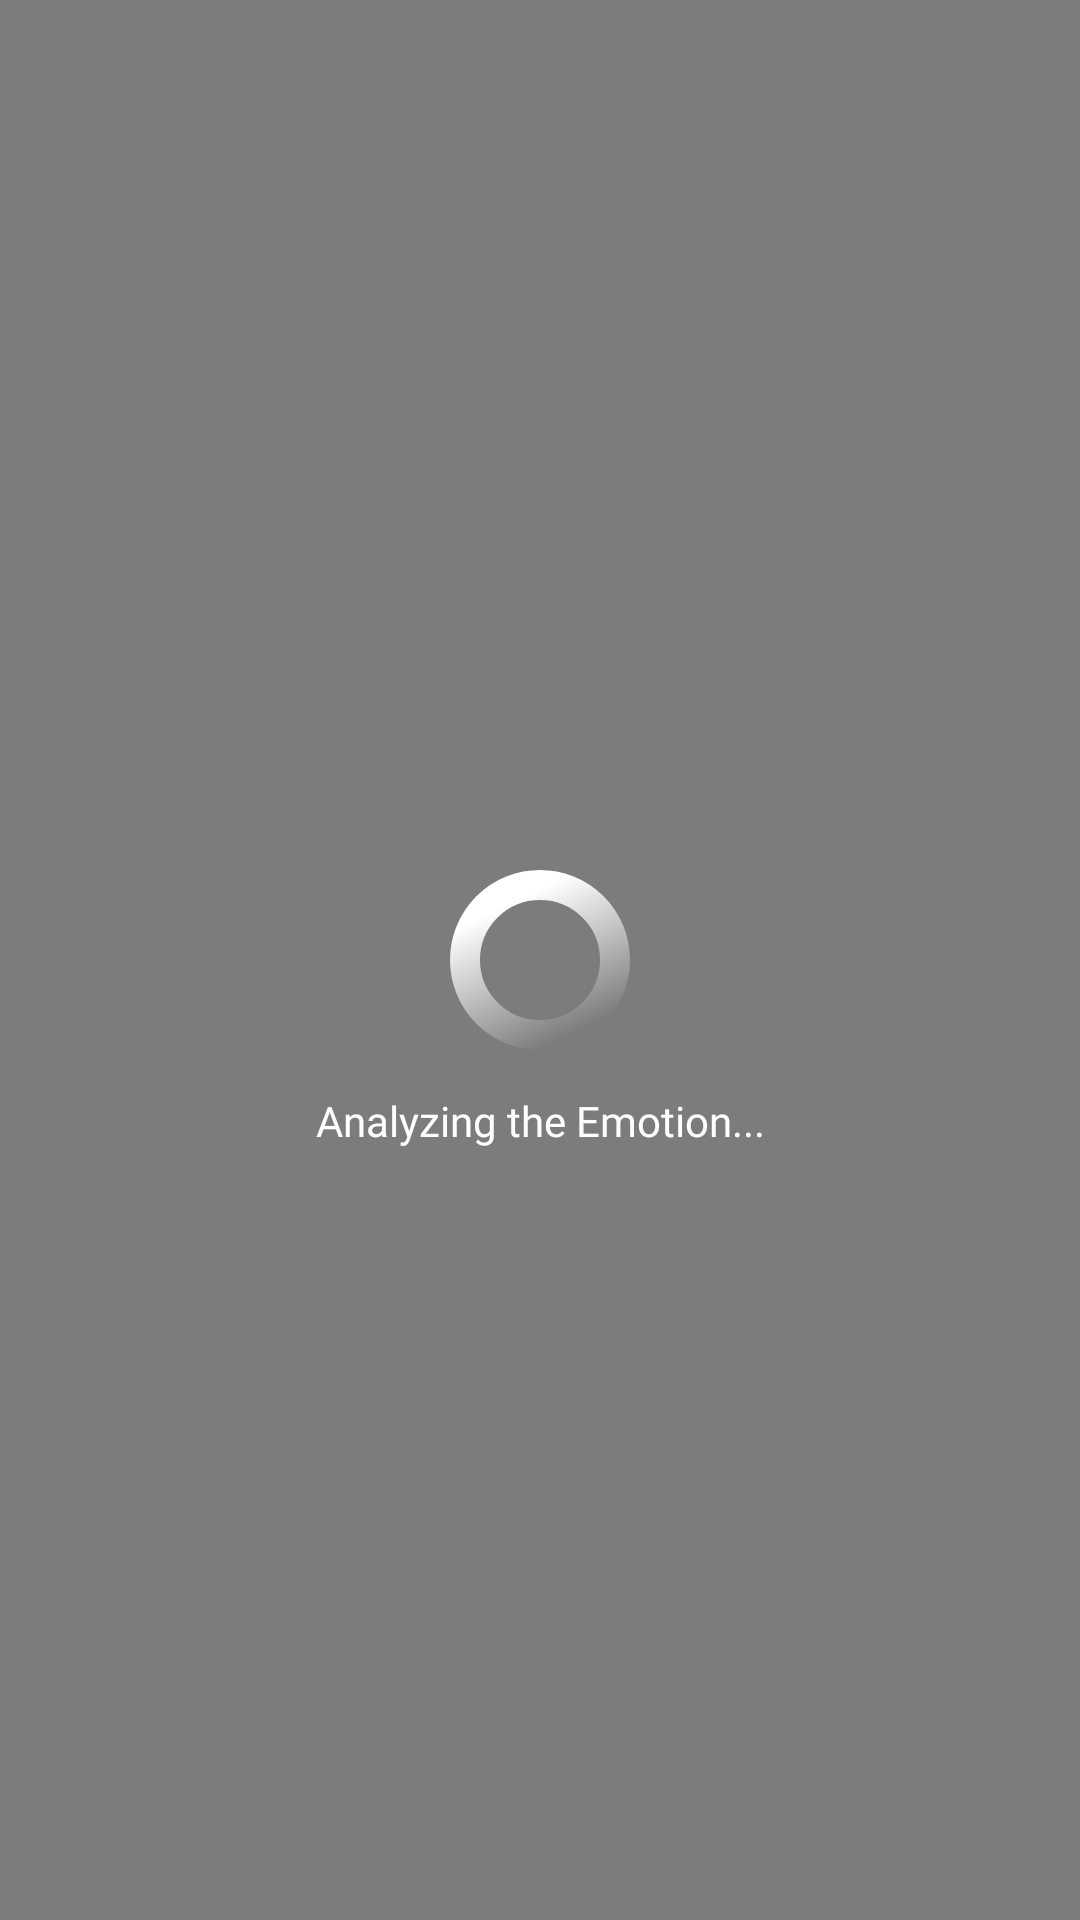

Icon click points for this 1080 × 1920 phone screenshot, format [x,y]:
loading: [540,954]
